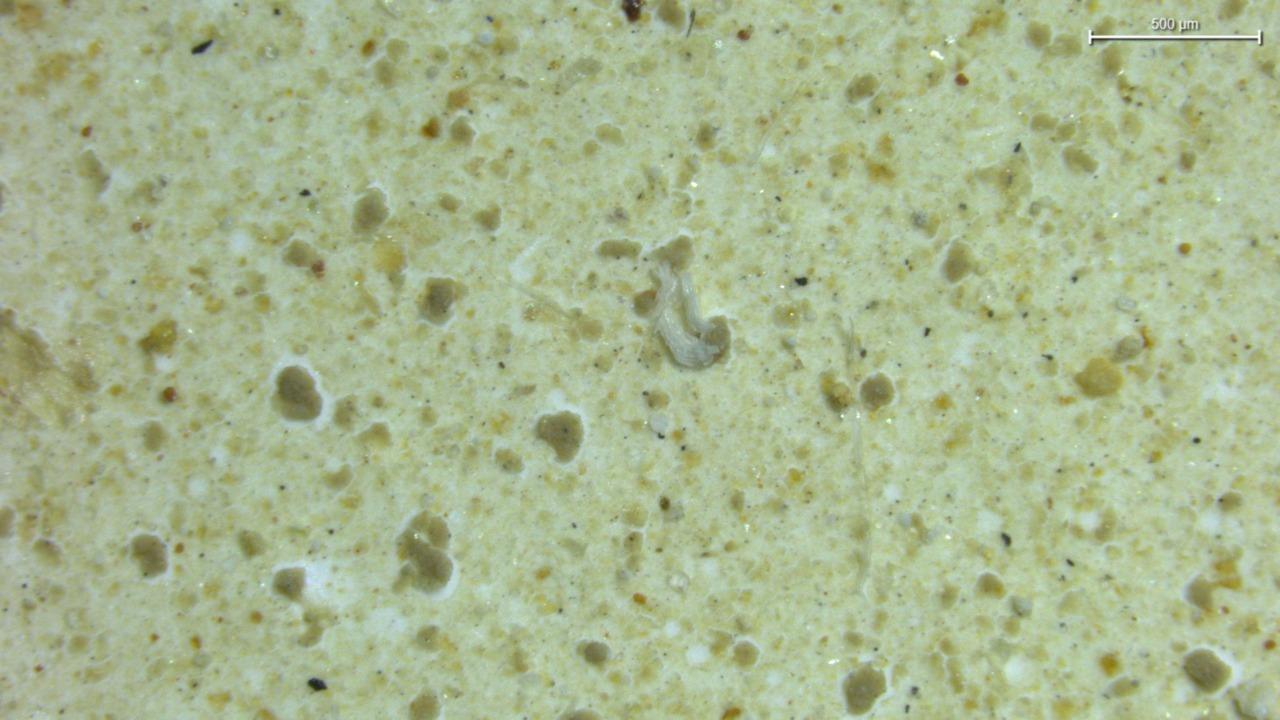microplastic_fragment: (649, 259, 730, 369)
